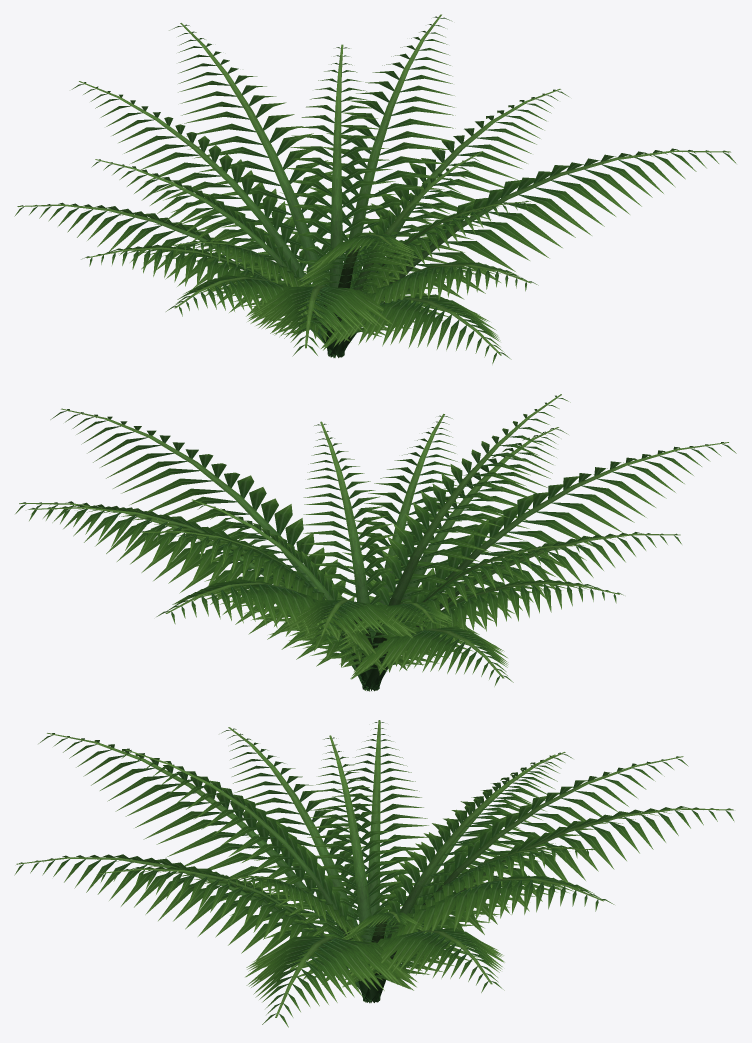
The model's file is Fern_Sword.glb.
3 views of the same model, one above another, from view 1: azimuth 30°, elevation 25°; view 2: azimuth 150°, elevation 25°; view 3: azimuth 270°, elevation 25° (orthographic). The views are drawn at different scales.
Parts seen in each view (by area): view 1: Fern_Sword__Fronds; view 2: Fern_Sword__Fronds; view 3: Fern_Sword__Fronds.
Part boxes in pixels (x1,y1,x2,y2): Fern_Sword__Fronds: [14, 14, 736, 364]; Fern_Sword__Fronds: [15, 394, 736, 691]; Fern_Sword__Fronds: [14, 720, 734, 1027].
Bounding box in the file's own units: 10.64 × 3.61 × 10.86.
1 material, 1 textured.
